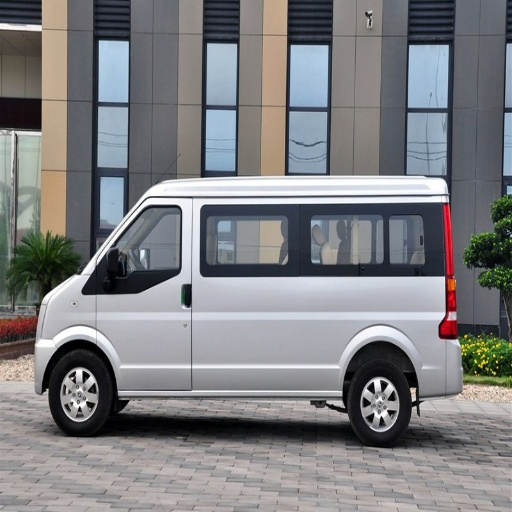back_left_door: (270, 325, 309, 369)
trunk: (305, 282, 456, 395), (211, 306, 257, 349)
